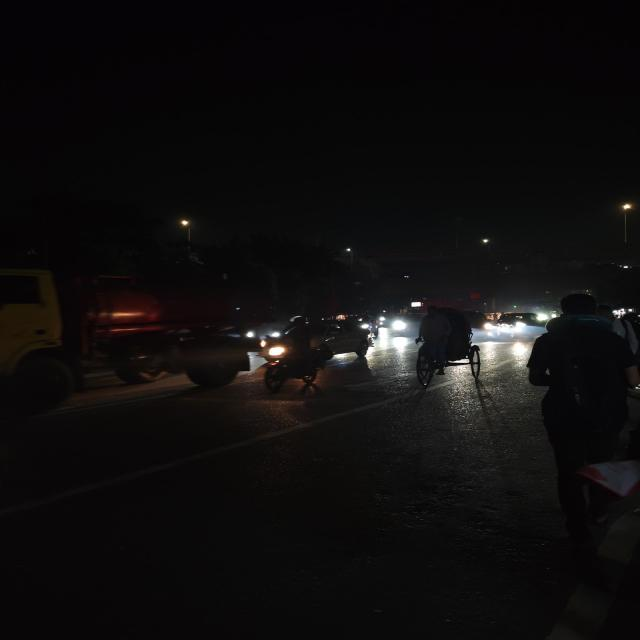car: (321, 314, 378, 368), (491, 310, 540, 340)
motorcycle: (249, 316, 339, 396)
pedestrian: (520, 304, 640, 639)
rickshaw: (407, 302, 485, 390)
truck: (0, 262, 247, 400)
